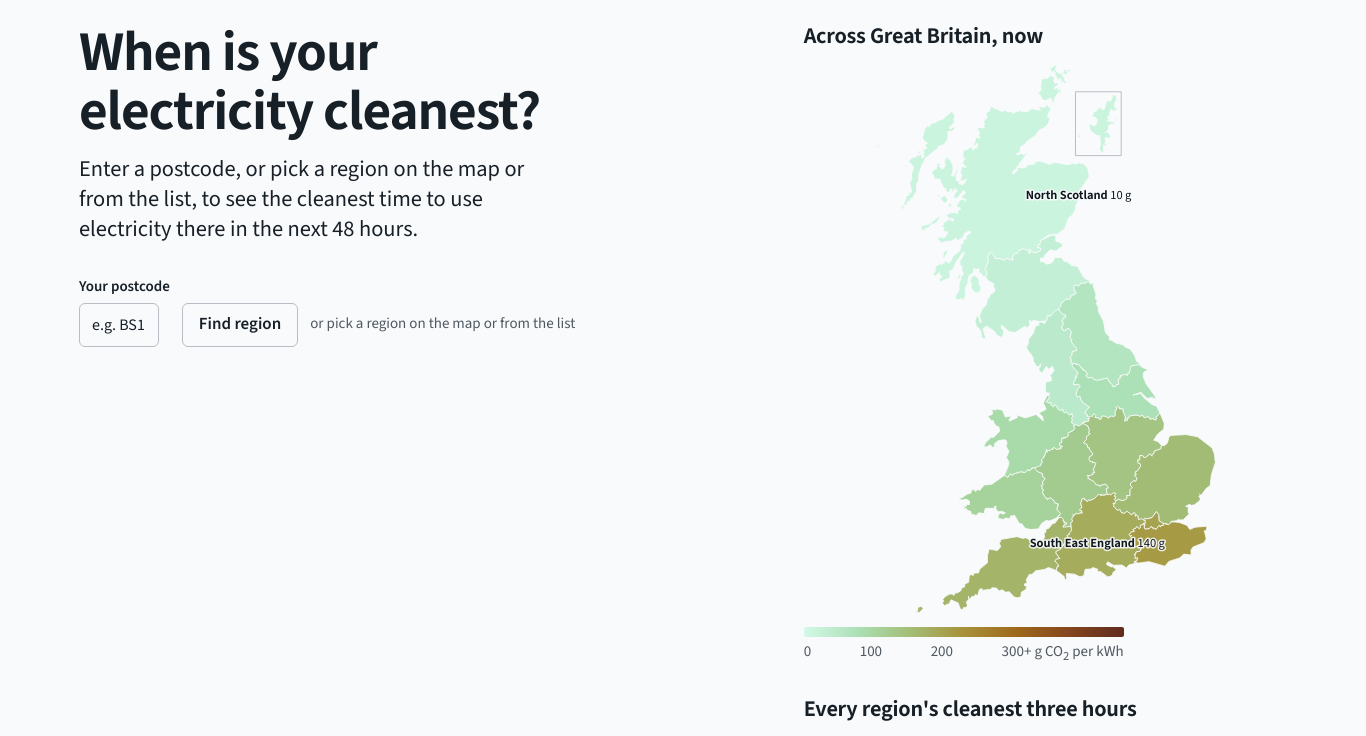
Test: says so when NESO cannot place the postcode, and leaves the page as it was
Expected: the heading "When is your electricity cleanest?" is shown, [79,13,540,151]
Type "ZZ9" into the field labelled "Your postcode". click: (119, 325)
box: [79,303,158,347]
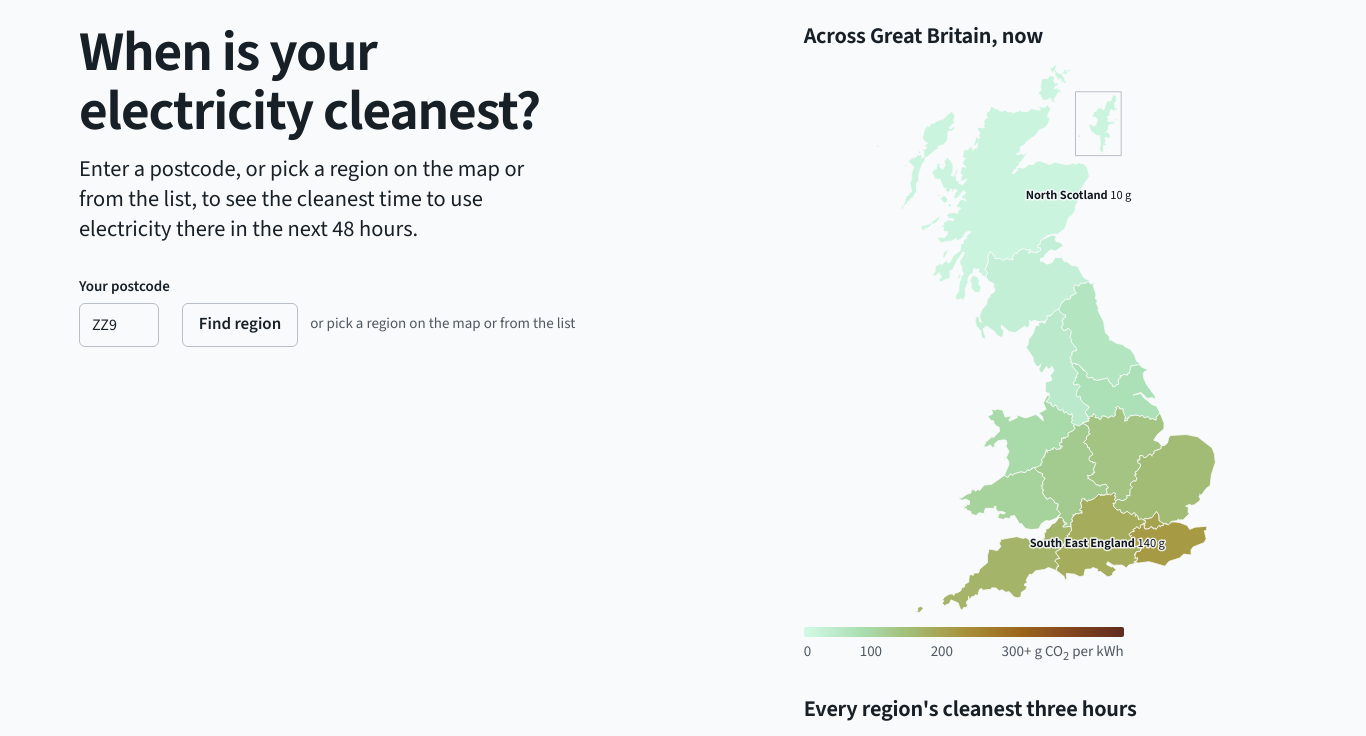
Click the button "Find region". click: (240, 325)
box: [182,303,298,347]
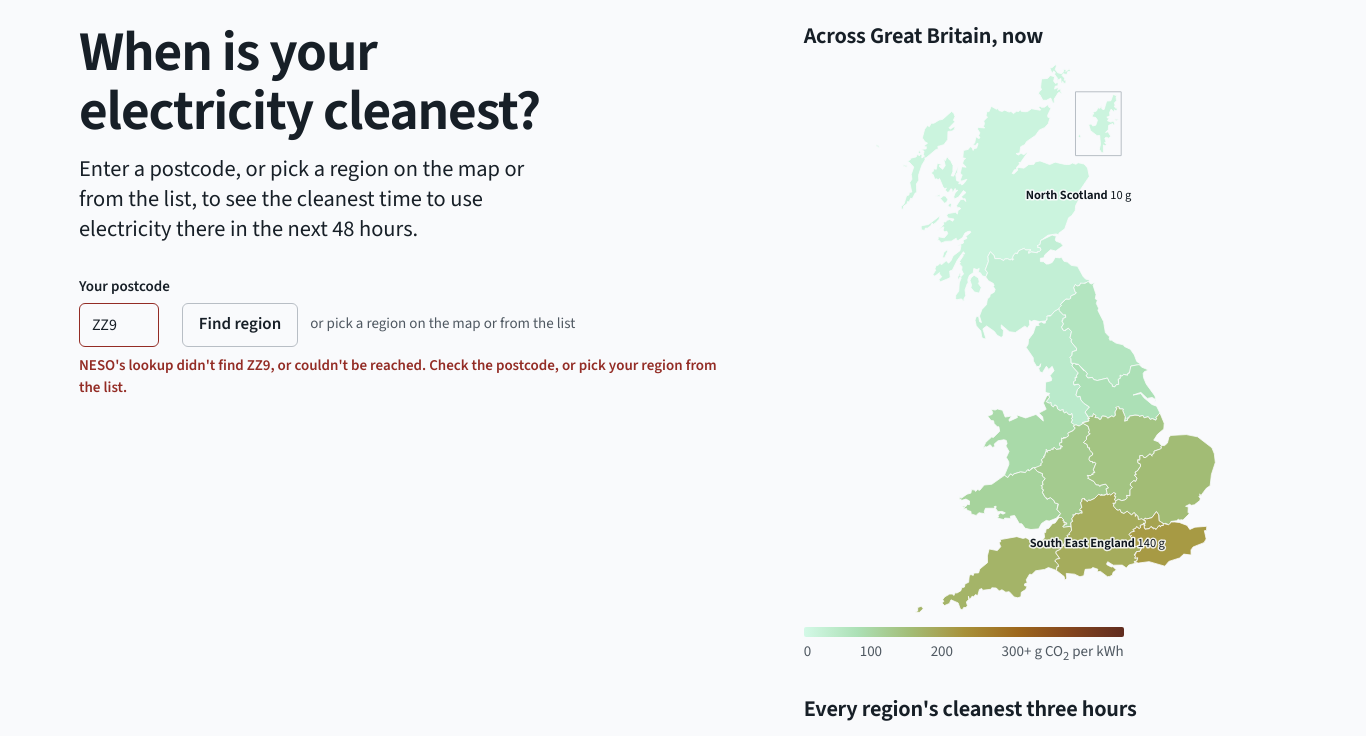
Expected: the heading "When is your electricity cleanest?" is shown, [79,13,540,151]
Expected: the message shows "NESO's lookup didn't find ZZ9", [79,355,717,398]
